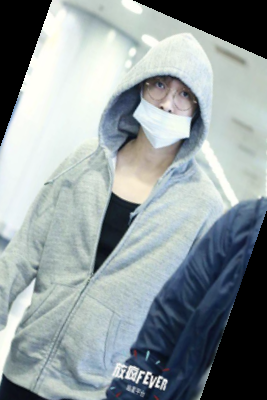mask_weared_incorrect: (124, 32, 224, 162)
